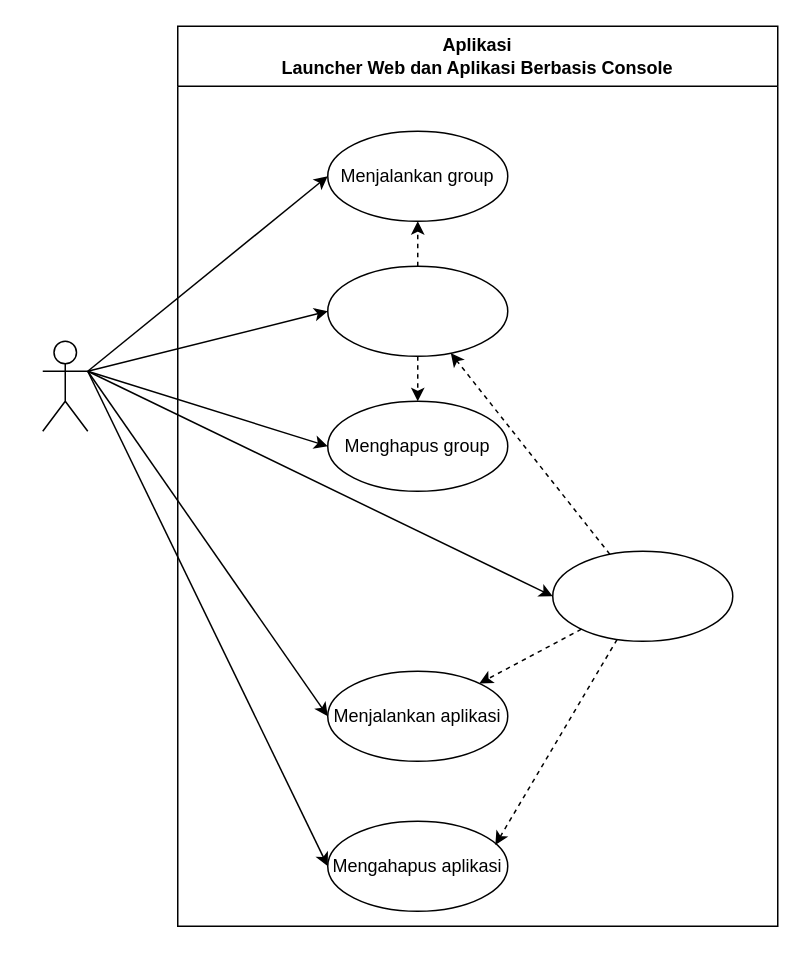
Image size: 804x953. Some labels were removed from this diagram. The box of each missing label's shape, as (x1, y1, x2, y2) in pixels:
Karyawan: (41, 340, 88, 431)
Menambah aplikasi: (551, 550, 733, 641)
Menambah group: (326, 265, 508, 356)
